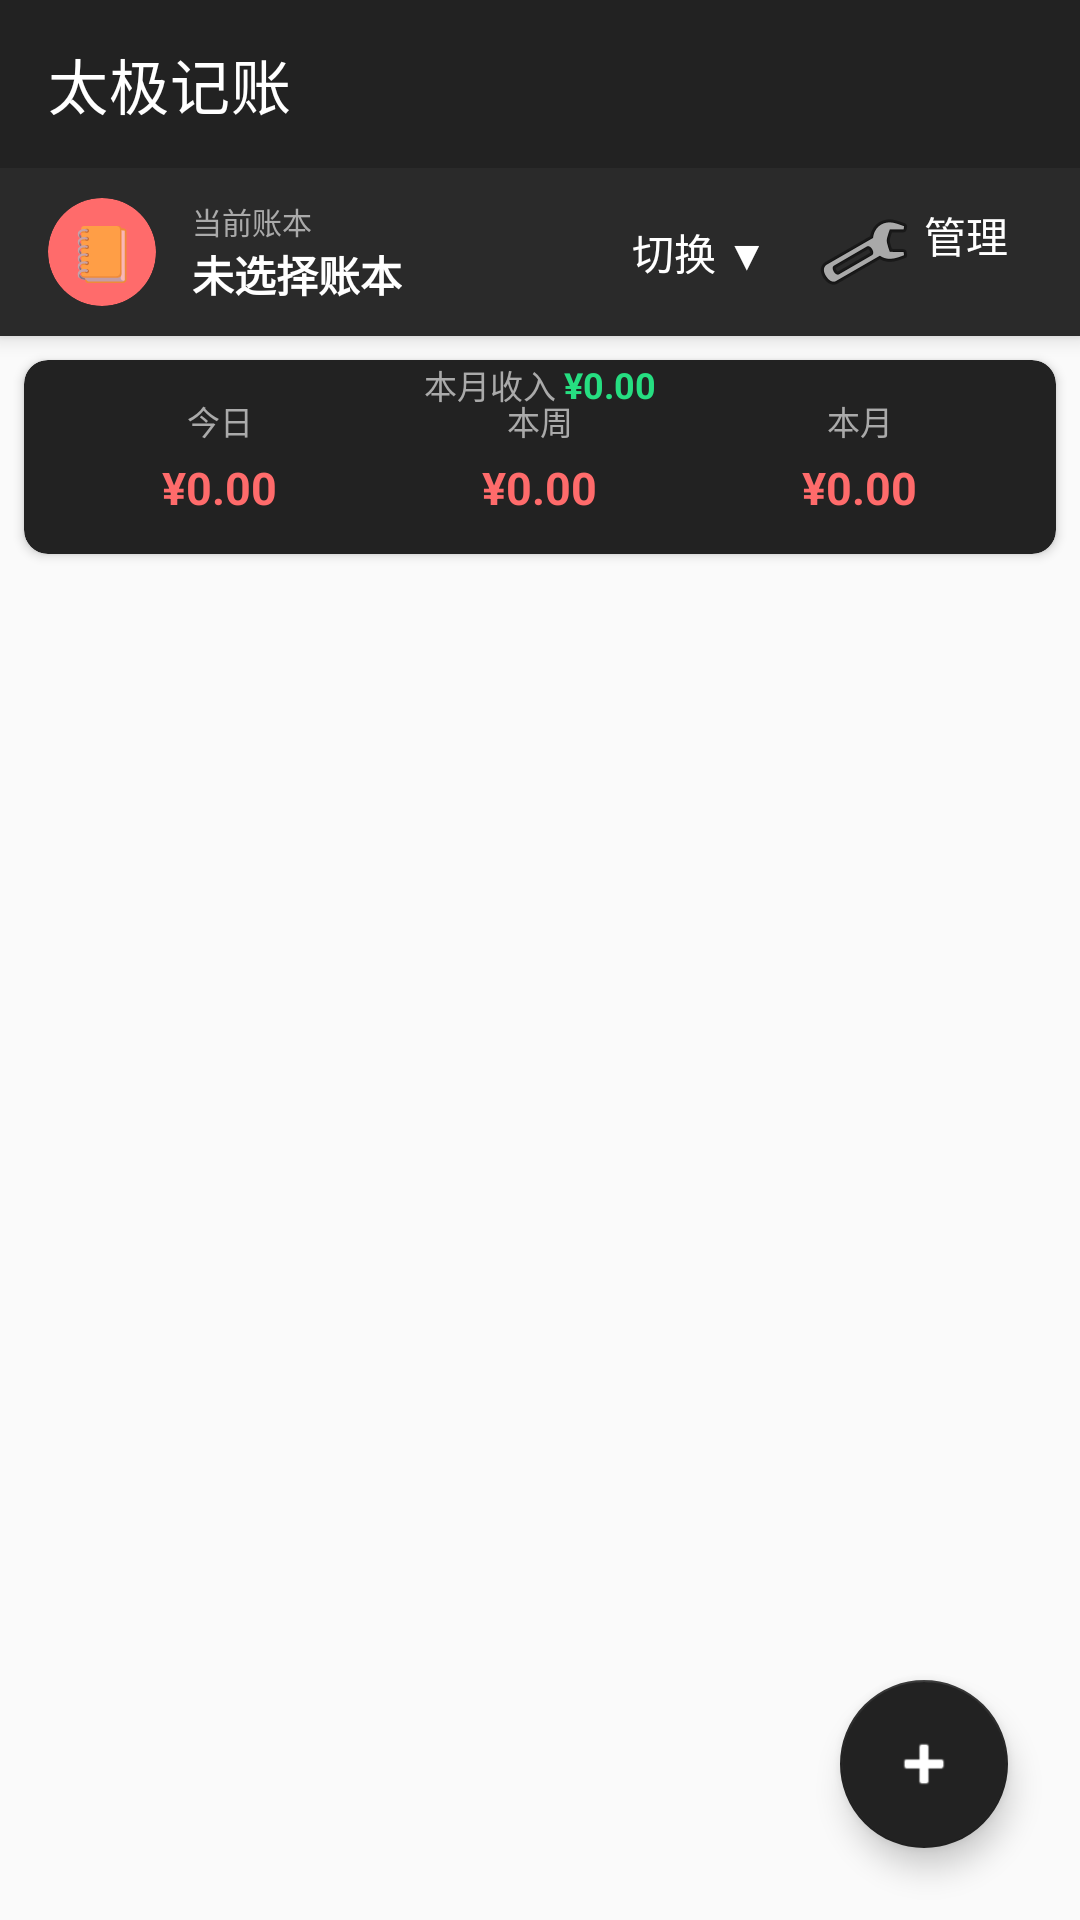

Named icons in this screenshot (1080w x 1920h) and their bounding boxes, (left=x1, top=y1, right=x2, bottom=y2):
记一笔: (left=840, top=1680, right=1008, bottom=1848)
